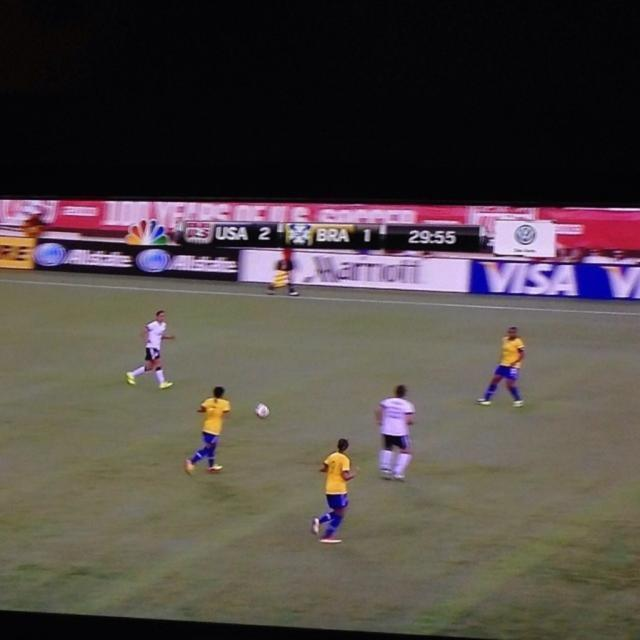football: (253, 399, 278, 421)
